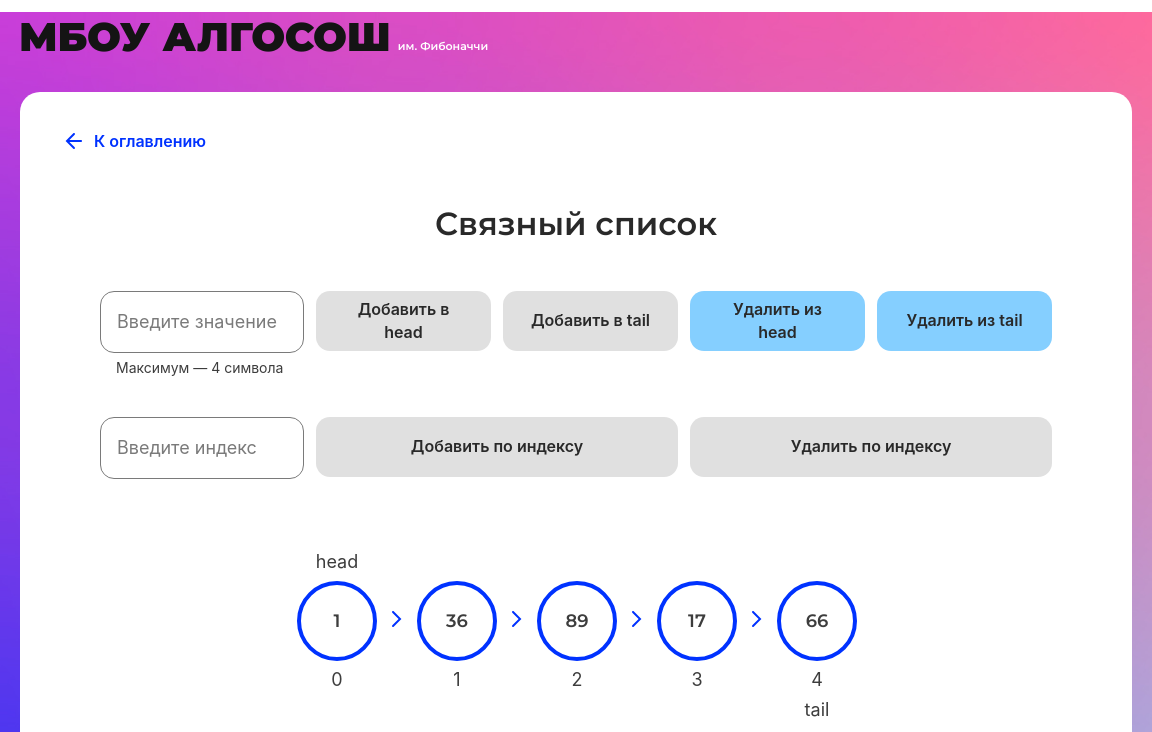
Test: Страница Связный список отображается корректно › Элемент добавляется в tail
In the field with test id "input": x=202, y=322 [100, 291, 304, 353], type "1"
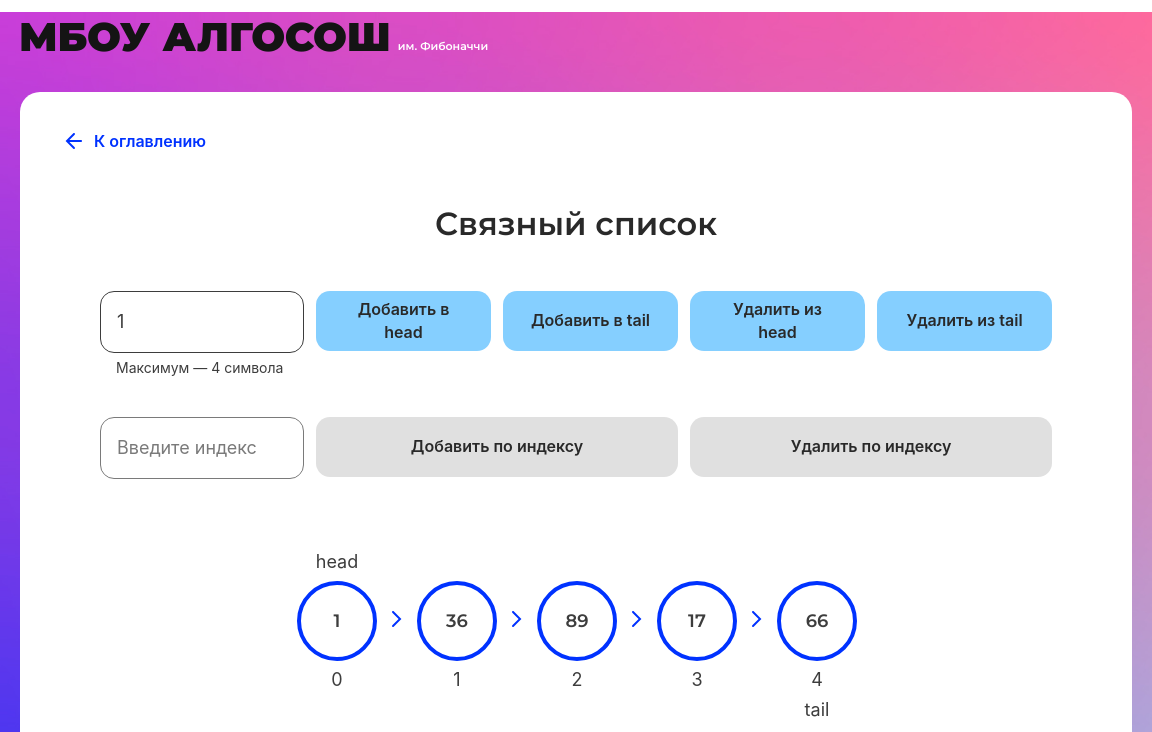
Click the button with test id "addtotailbutton": x=591, y=321 [503, 291, 678, 351]
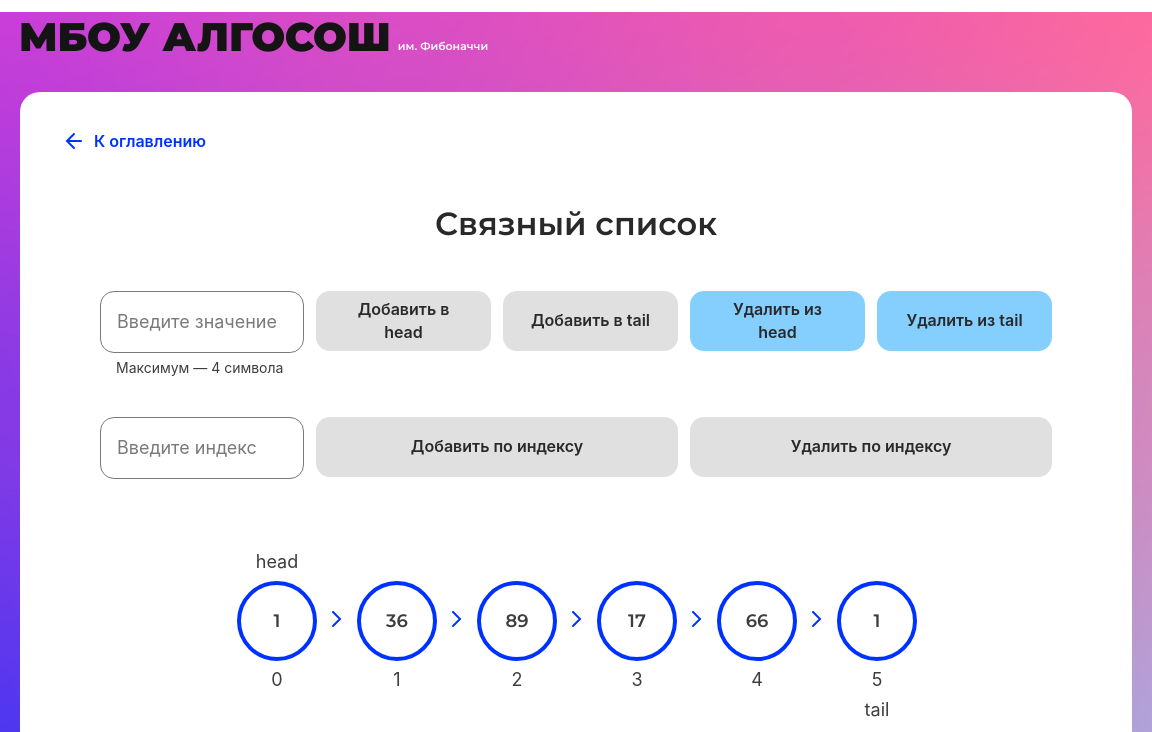
expect the number of elements with test id "circle" is 6: met, box [237, 581, 317, 661]; [357, 581, 437, 661]; [477, 581, 557, 661]; [597, 581, 677, 661]; [717, 581, 797, 661]; [837, 581, 917, 661]
expect the number of elements with test id "arrow" is 5: met, box [322, 607, 346, 635]; [442, 607, 466, 635]; [562, 607, 586, 635]; [682, 607, 706, 635]; [802, 607, 826, 635]
